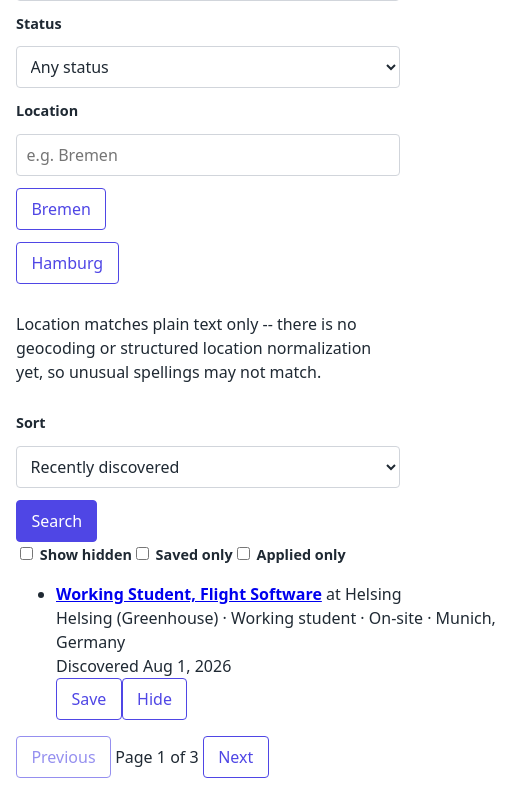
Test: OpportunityListPage › resets to page 1 when a filter changes while on a later page
(page scrolled)
Expected: the text "Working Student, Flight Software" is shown, x1=56 y1=583 x2=322 y2=605
Expected: the text "Page 1 of 3" is shown, x1=111 y1=746 x2=203 y2=768
Click the button "Next" at (236, 757), box x1=203 y1=736 x2=269 y2=778
(page scrolled)
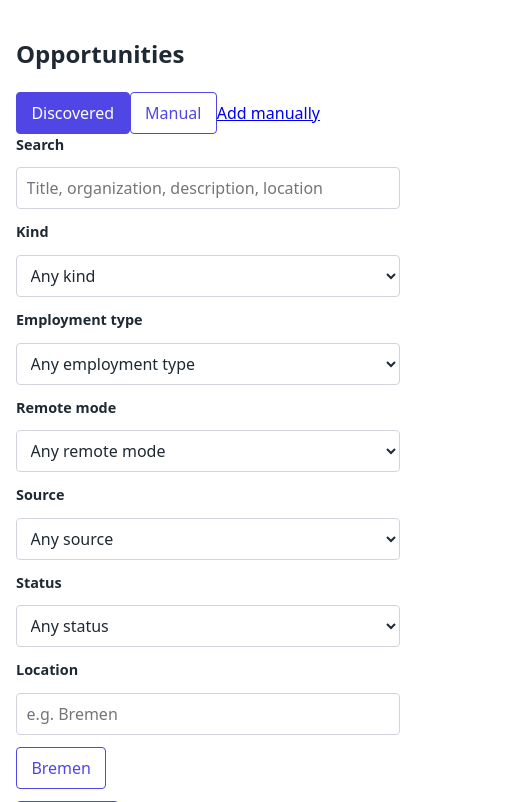
Select "Internship" in the dropdown labelled "Employment type" at (208, 364), box x1=16 y1=343 x2=400 y2=385
(page scrolled)
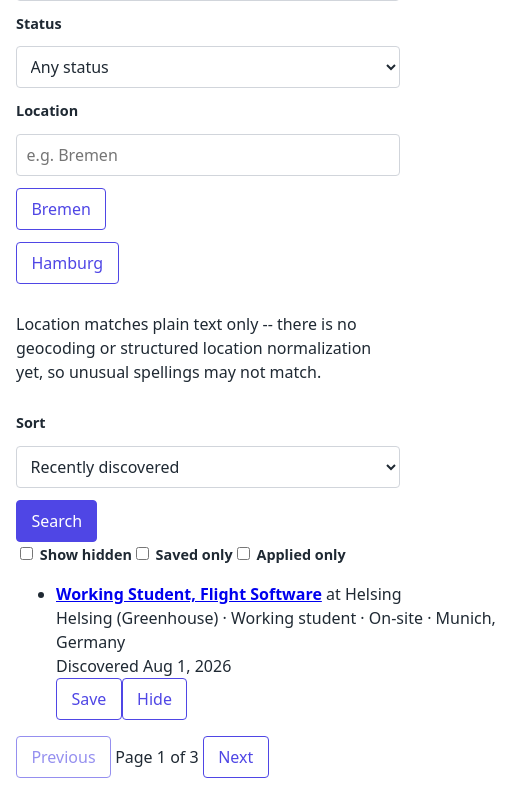
Expected: the text "Page 1 of 3" is shown, x1=111 y1=746 x2=203 y2=768
